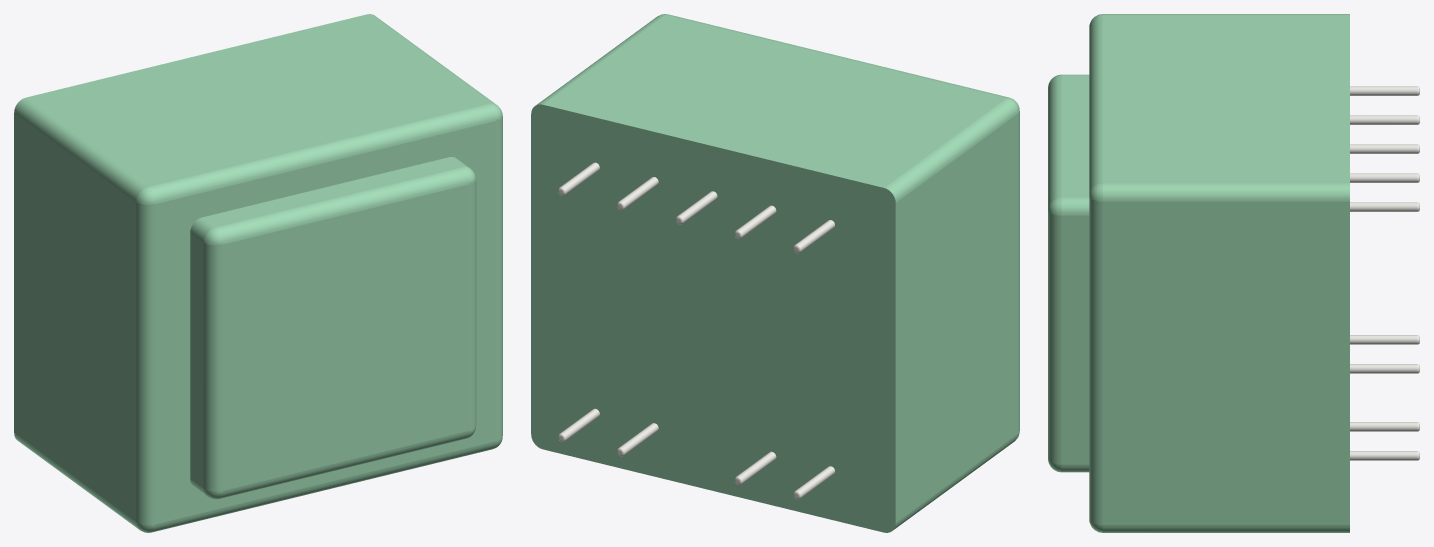
The model's file is Transformer_Breve_TEZ-28x33.glb.
3 views of the same model, side by side, from view 1: azimuth 30°, elevation 25°; view 2: azimuth 150°, elevation 25°; view 3: azimuth 270°, elevation 25° (orthographic).
Parts seen in each view (by area): view 1: Shape_IndexedFaceSet.039, Shape_IndexedFaceSet.062, Shape_IndexedFaceSet.065, Shape_IndexedFaceSet.043, Shape_IndexedFaceSet.050, Shape_IndexedFaceSet.052, Shape_IndexedFaceSet.046, Shape_IndexedFaceSet.045, Shape_IndexedFaceSet.053, Shape_IndexedFaceSet.055, Shape_IndexedFaceSet.069, Shape_IndexedFaceSet.051 (+5 smaller); view 2: Shape_IndexedFaceSet.068, Shape_IndexedFaceSet.062, Shape_IndexedFaceSet.065, Shape_IndexedFaceSet.069, Shape_IndexedFaceSet.050, Shape_IndexedFaceSet.070, Shape_IndexedFaceSet.052, Shape_IndexedFaceSet.066; view 3: Shape_IndexedFaceSet.059, Shape_IndexedFaceSet.062, Shape_IndexedFaceSet.048, Shape_IndexedFaceSet.066, Shape_IndexedFaceSet.049, Shape_IndexedFaceSet.055, Shape_IndexedFaceSet.041, Shape_IndexedFaceSet.050, Shape_IndexedFaceSet.067, Shape_IndexedFaceSet.045, Shape_IndexedFaceSet, Shape_IndexedFaceSet.004 (+9 smaller).
Boxes of the visible parts, left/top/right/bottom form: Shape_IndexedFaceSet.039: left=222, top=184, right=469, bottom=490; Shape_IndexedFaceSet.062: left=26, top=14, right=488, bottom=186; Shape_IndexedFaceSet.065: left=14, top=113, right=136, bottom=521; Shape_IndexedFaceSet.043: left=155, top=121, right=495, bottom=524; Shape_IndexedFaceSet.050: left=148, top=104, right=495, bottom=204; Shape_IndexedFaceSet.052: left=136, top=202, right=154, bottom=525; Shape_IndexedFaceSet.046: left=203, top=243, right=222, bottom=491; Shape_IndexedFaceSet.045: left=216, top=167, right=469, bottom=244; Shape_IndexedFaceSet.053: left=190, top=233, right=203, bottom=488; Shape_IndexedFaceSet.055: left=202, top=157, right=462, bottom=227; Shape_IndexedFaceSet.069: left=14, top=97, right=147, bottom=201; Shape_IndexedFaceSet.051: left=152, top=441, right=495, bottom=532; Shape_IndexedFaceSet.068: left=531, top=104, right=895, bottom=532; Shape_IndexedFaceSet.062: left=543, top=15, right=1005, bottom=187; Shape_IndexedFaceSet.065: left=895, top=114, right=1017, bottom=522; Shape_IndexedFaceSet.069: left=884, top=98, right=1017, bottom=202; Shape_IndexedFaceSet.050: left=665, top=14, right=1008, bottom=98; Shape_IndexedFaceSet.070: left=893, top=434, right=1017, bottom=529; Shape_IndexedFaceSet.052: left=1018, top=111, right=1019, bottom=433; Shape_IndexedFaceSet.066: left=537, top=15, right=664, bottom=104; Shape_IndexedFaceSet.059: left=1103, top=201, right=1349, bottom=524; Shape_IndexedFaceSet.062: left=1103, top=15, right=1349, bottom=183; Shape_IndexedFaceSet.048: left=1061, top=215, right=1089, bottom=464; Shape_IndexedFaceSet.066: left=1103, top=183, right=1349, bottom=201; Shape_IndexedFaceSet.049: left=1089, top=197, right=1102, bottom=524; Shape_IndexedFaceSet.055: left=1061, top=75, right=1089, bottom=197; Shape_IndexedFaceSet.041: left=1048, top=210, right=1061, bottom=464; Shape_IndexedFaceSet.050: left=1089, top=15, right=1102, bottom=193; Shape_IndexedFaceSet.067: left=1103, top=525, right=1349, bottom=532; Shape_IndexedFaceSet.045: left=1048, top=76, right=1061, bottom=208; Shape_IndexedFaceSet: left=1350, top=86, right=1417, bottom=95; Shape_IndexedFaceSet.004: left=1350, top=115, right=1417, bottom=124.
Size of the model in its own units: 12.2 by 11.02 by 10.67.
